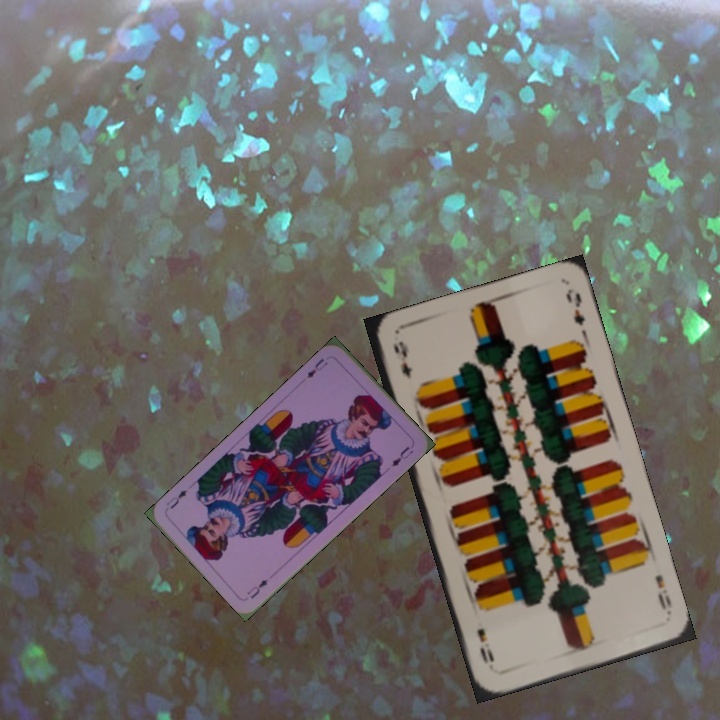E9: (651, 570, 675, 620), (389, 337, 414, 382)
EU: (302, 354, 331, 381), (242, 575, 271, 601)
